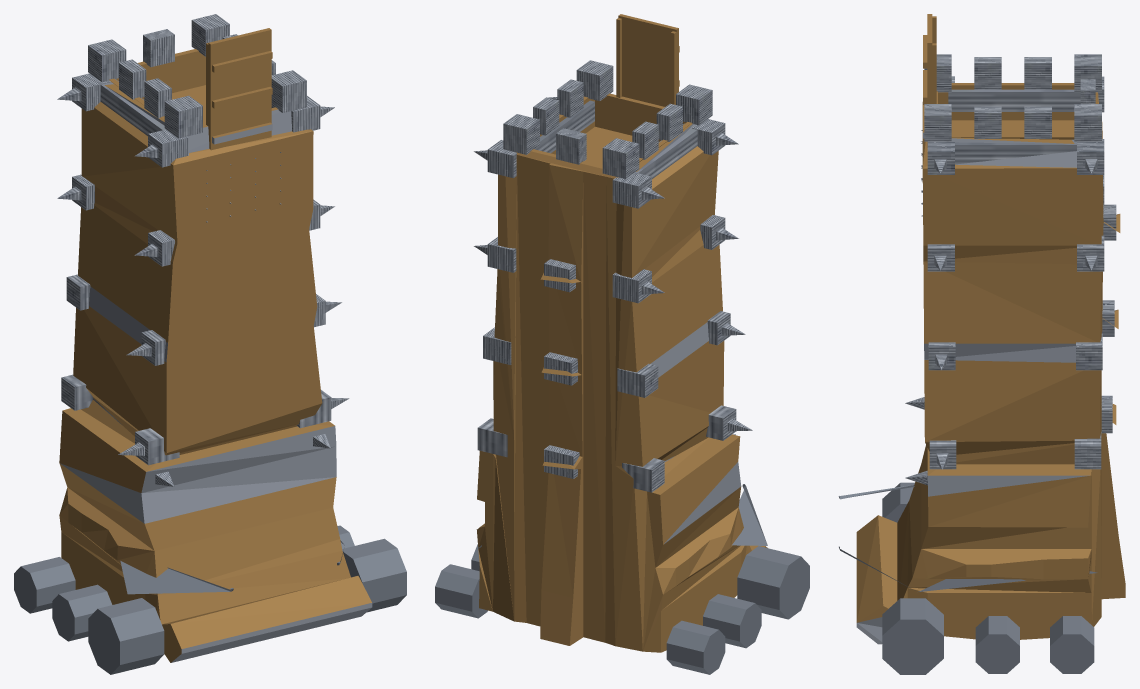
File: ae_siege_tower_open_large_iron_lod1.glb
The picture shows the model from 3 angles, left to right: view 1: azimuth 30°, elevation 25°; view 2: azimuth 150°, elevation 25°; view 3: azimuth 270°, elevation 25°; orthographic projection. The views are drawn at different scales.
Parts seen in each view (by area): view 1: siege_tower_open_large, drawbridge; view 2: siege_tower_open_large, drawbridge; view 3: siege_tower_open_large, drawbridge.
Boxes of the visible parts, x1,y1,x2,y2 form: siege_tower_open_large: (14,14,406,674); drawbridge: (206,28,272,150); siege_tower_open_large: (435,60,809,674); drawbridge: (616,14,679,106); siege_tower_open_large: (838,54,1125,674); drawbridge: (923,14,936,147).
Size of the model in its own units: 67.27 by 133 by 59.65.
4 materials, 3 textured.
